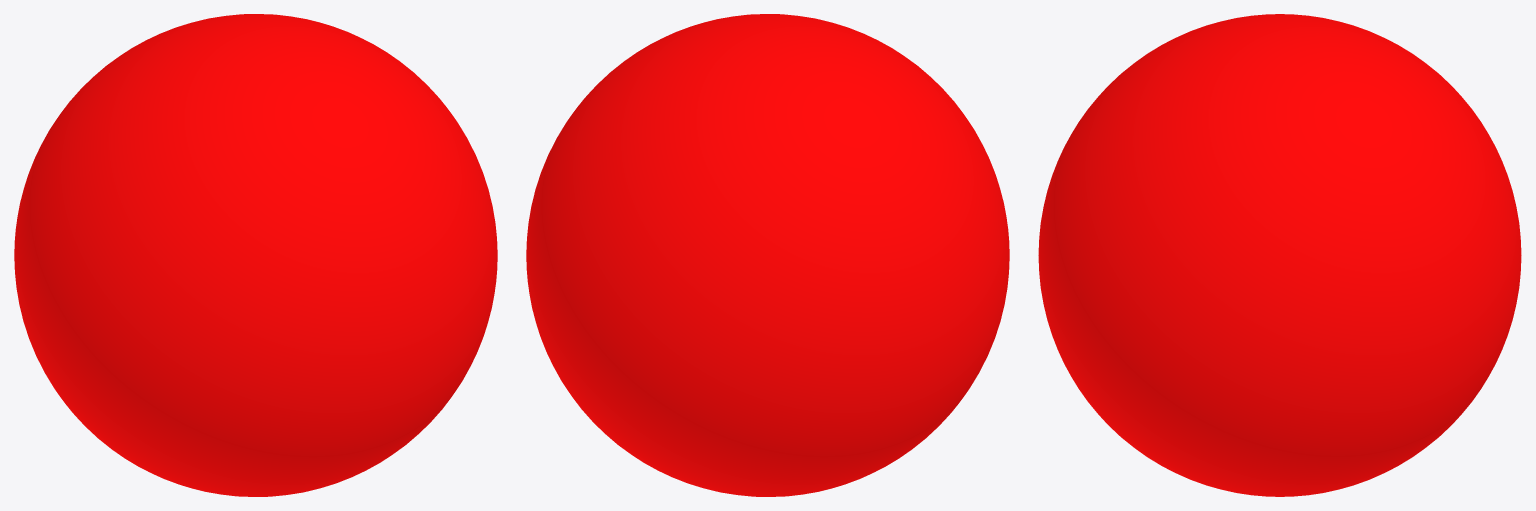
File: Sovente-850.gltf
3 renders of one model, left to right at view 1: azimuth 30°, elevation 25°; view 2: azimuth 150°, elevation 25°; view 3: azimuth 270°, elevation 25°, orthographic.
Parts seen in each view (by area): view 1: Sovente-850; view 2: Sovente-850; view 3: Sovente-850.
Boxes of the visible parts, bbox=[...] form: Sovente-850: bbox=[14, 14, 497, 496]; Sovente-850: bbox=[526, 14, 1009, 496]; Sovente-850: bbox=[1038, 14, 1521, 496].
Size of the model in its own units: 97.7 by 97.7 by 97.7.
